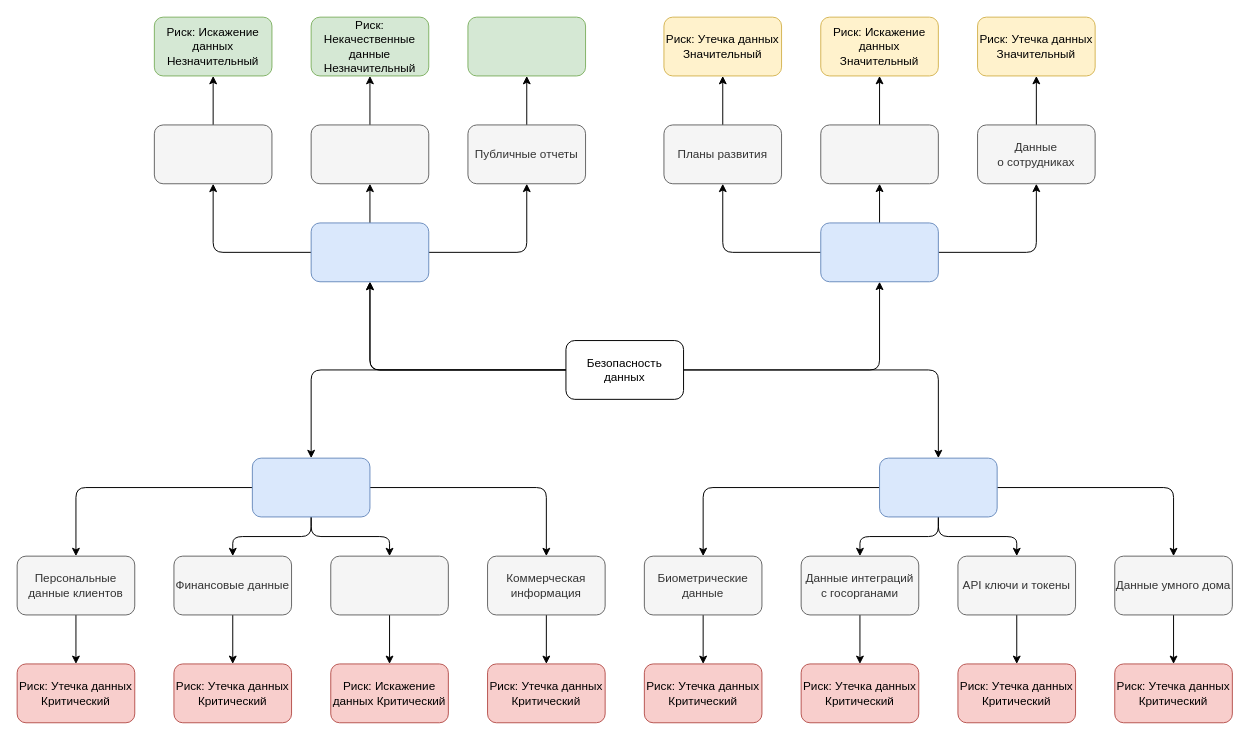
This 1250x740 diagram has some shape labels left out. The centre of each missing label's shape, as x and y in pixels:
"Внутренние" belongs at point (879, 252).
"Внутренние отчеты" belongs at point (879, 154).
"Данные о собственности" belongs at point (389, 585).
"Информация о ЖК" belongs at point (212, 154).
"Конфиденциальные" belongs at point (310, 487).
"Маркетинговые материалы" belongs at point (369, 154).
"Публичные" belongs at point (369, 252).
"Риск: Потеря данных Незначительный" belongs at point (526, 46).
"Секретные" belongs at point (938, 487).
